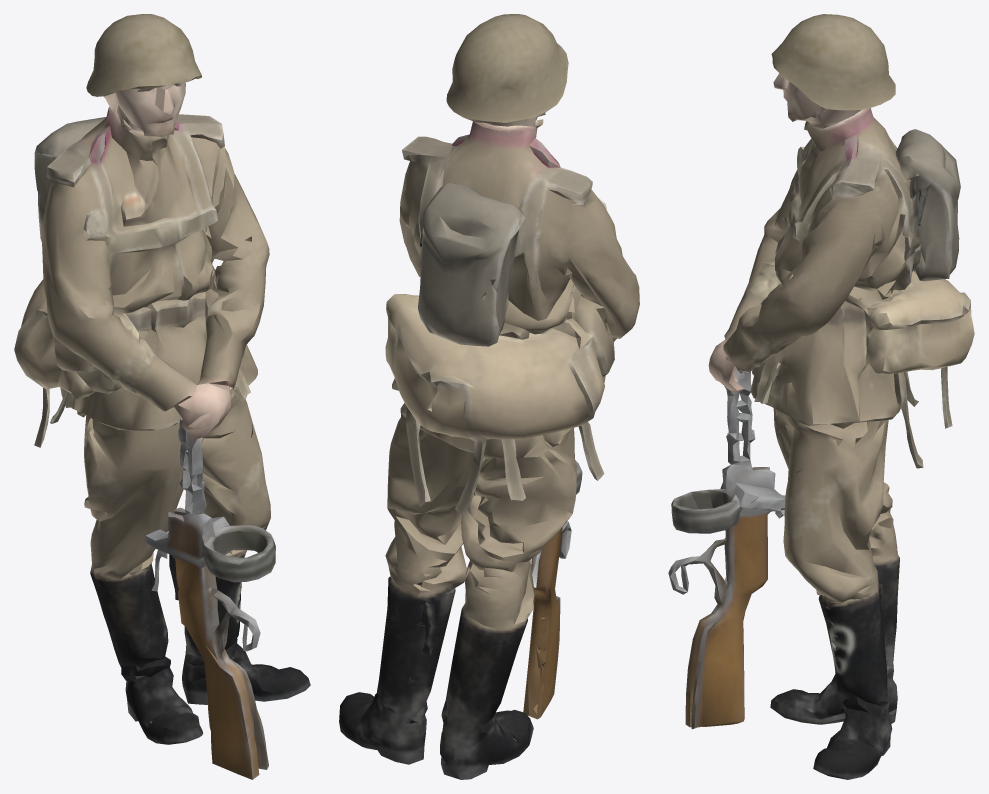
File: russian_pawn.glb
The picture shows the model from 3 angles, left to right: view 1: azimuth 30°, elevation 25°; view 2: azimuth 150°, elevation 25°; view 3: azimuth 270°, elevation 25°; orthographic projection. The views are drawn at different scales.
Parts seen in each view (by area): view 1: Russian_Soldier_2_15k; view 2: Russian_Soldier_2_15k; view 3: Russian_Soldier_2_15k.
Part boxes in pixels (left/top/right/bottom): Russian_Soldier_2_15k: left=14, top=14, right=310, bottom=779; Russian_Soldier_2_15k: left=339, top=14, right=639, bottom=779; Russian_Soldier_2_15k: left=668, top=14, right=974, bottom=779.
Bounding box in the file's own units: 0.3941 × 1 × 0.402.
Materials: 1 (1 with a texture image).
